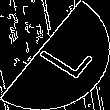L_NW: (21, 28, 89, 82)
